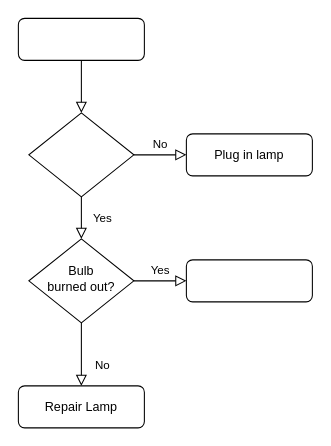
Image size: 331x446. Some labels were removed from this diagram. The shapes that lost their labels are listed below. From the top down, each one's centre as x and y in pixels, then its label:
At point 80,38: "Nueva Sesión".
At point 248,280: "Replace Bulb".
